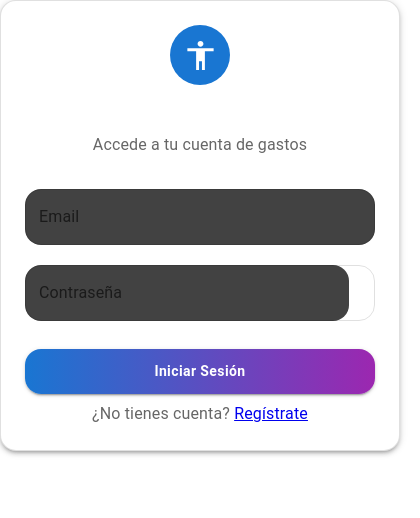
LoginForm › Muestra un error si el email no es válido
The width and height of the screenshot is (420, 518).
In the field labelled "Email": {"x": 200, "y": 217} [25, 189, 375, 245], type "correo invalido"
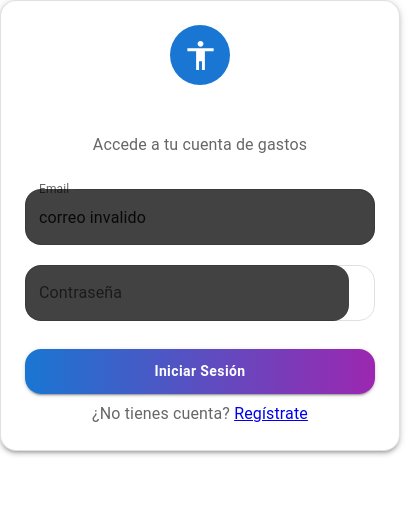
Click the button "Iniciar Sesión": {"x": 200, "y": 371} [25, 349, 375, 394]
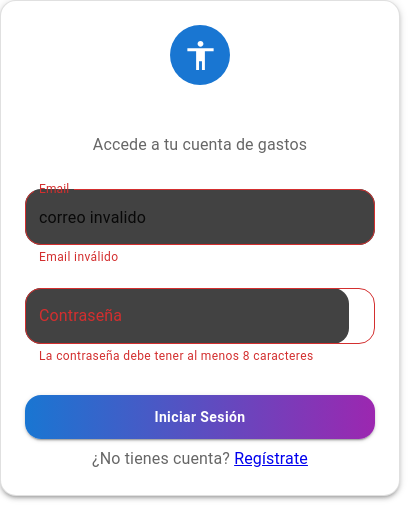
Expected: the text "Email inválido" is shown, [39, 250, 118, 264]
